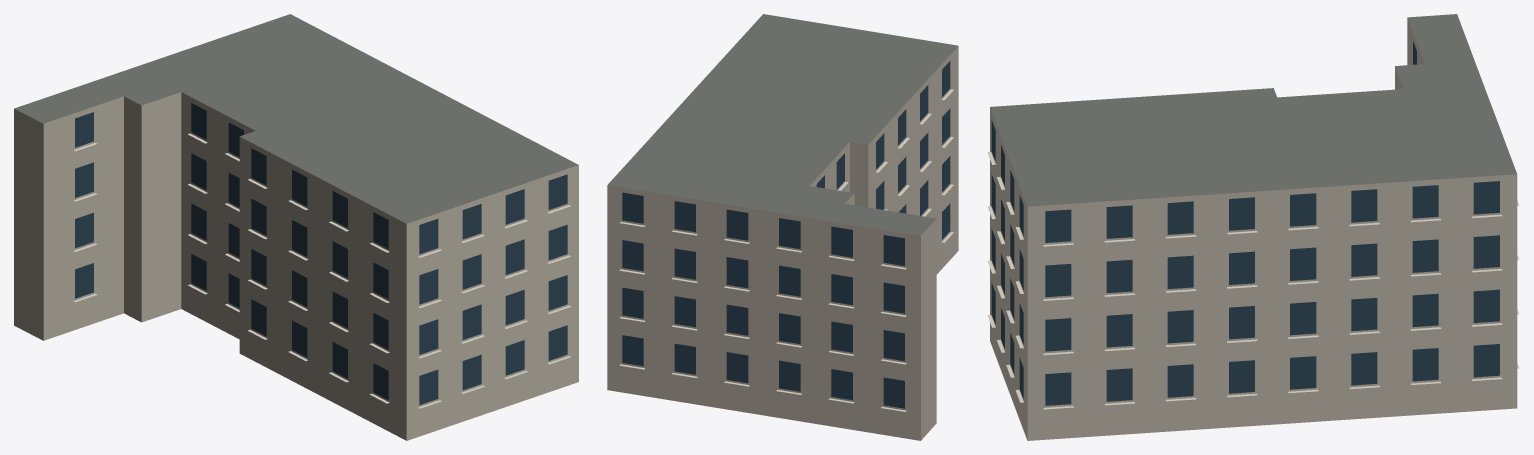
3 renders of one model, left to right at view 1: azimuth 30°, elevation 25°; view 2: azimuth 150°, elevation 25°; view 3: azimuth 270°, elevation 25°, orthographic. The views are drawn at different scales.
Visible parts, largest first — view 1: Footprint 0, Inferred window bays, Window sills; view 2: Footprint 0, Inferred window bays, Window sills; view 3: Footprint 0, Inferred window bays, Window sills.
Part boxes in pixels (left/top/right/bottom): Footprint 0: left=14, top=14, right=578, bottom=440; Inferred window bays: left=75, top=103, right=567, bottom=405; Window sills: left=73, top=133, right=570, bottom=408; Footprint 0: left=607, top=14, right=958, bottom=440; Inferred window bays: left=622, top=61, right=950, bottom=408; Window sills: left=619, top=89, right=953, bottom=411; Footprint 0: left=990, top=14, right=1517, bottom=440; Inferred window bays: left=991, top=41, right=1499, bottom=405; Window sills: left=987, top=152, right=1519, bottom=409.
Size of the model in its own units: 21.58 by 12.17 by 25.05.
